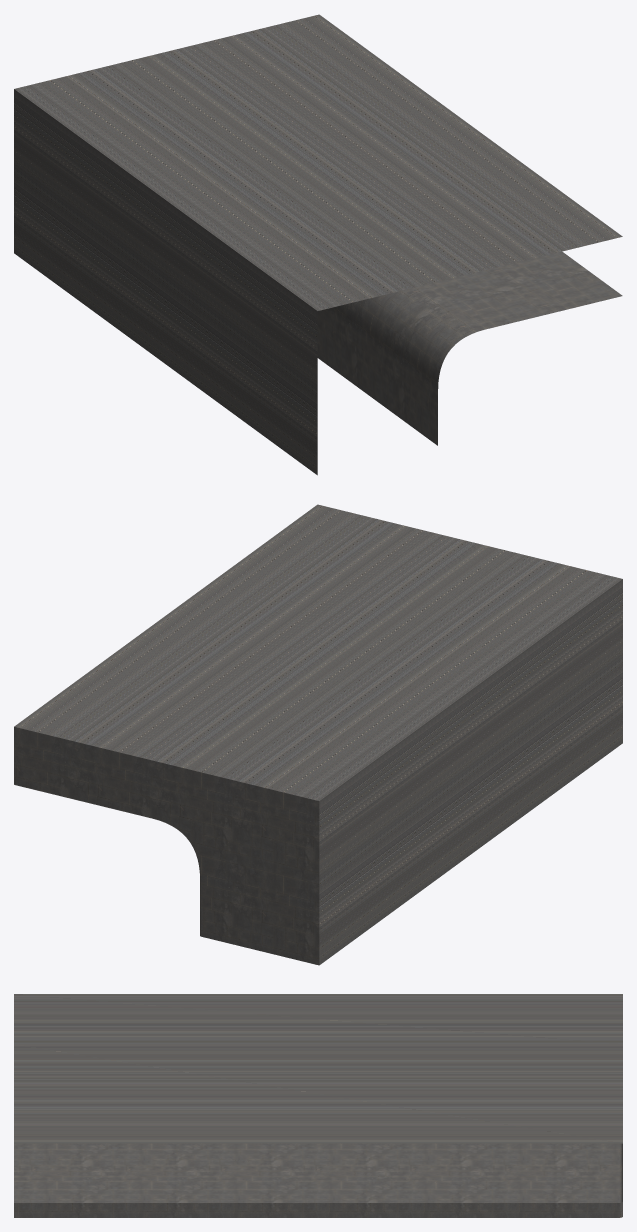
File: SM_BackWallRight.FBX
3 renders of one model, top to bottom at view 1: azimuth 30°, elevation 25°; view 2: azimuth 150°, elevation 25°; view 3: azimuth 270°, elevation 25°, orthographic.
Visible parts, largest first — view 1: SM_BackWallRight; view 2: SM_BackWallRight; view 3: SM_BackWallRight.
Boxes of the visible parts, <box> form: SM_BackWallRight: <box>14,14,622,475</box>; SM_BackWallRight: <box>14,504,622,965</box>; SM_BackWallRight: <box>14,994,622,1217</box>.
Size of the model in its own units: 1990 by 3427 by 1023.
